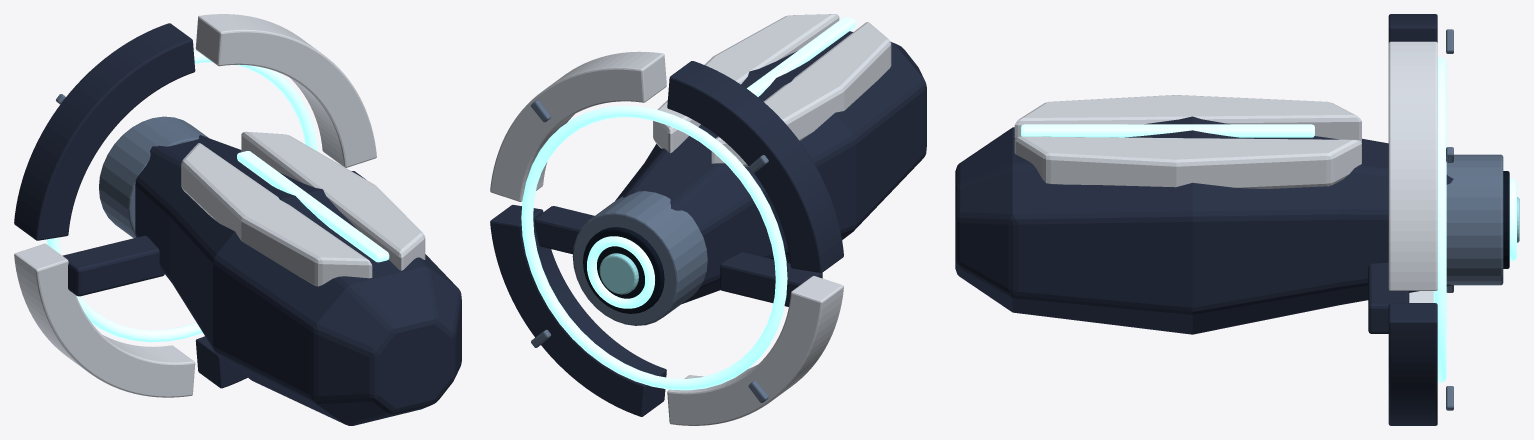
Rendered from Ether_C.fbx.
3 views of the same model, side by side, from view 1: azimuth 30°, elevation 25°; view 2: azimuth 150°, elevation 25°; view 3: azimuth 270°, elevation 25° (orthographic). The views are drawn at different scales.
Parts seen in each view (by area): view 1: C_01_RearPod, C_04_HaloSegment1, C_02_UpperPanel-1, C_04_HaloSegment0, C_04_HaloSegment2, C_02_UpperPanel1, C_07_CoreHousing, C_11_HaloSupport, C_05_InnerHalo, C_03_CoreSpine, C_04_HaloSegment3; view 2: C_01_RearPod, C_04_HaloSegment1, C_04_HaloSegment3, C_05_InnerHalo, C_04_HaloSegment2, C_04_HaloSegment0, C_07_CoreHousing, C_02_UpperPanel-1, C_02_UpperPanel1, C_11_HaloSupport, C_08_CoreRecess, C_09_CoreRing (+3 smaller); view 3: C_01_RearPod, C_02_UpperPanel1, C_04_HaloSegment0, C_02_UpperPanel-1, C_07_CoreHousing, C_04_HaloSegment3, C_03_CoreSpine, C_05_InnerHalo, C_11_HaloSupport.001, C_04_HaloSegment1, C_08_CoreRecess, C_09_CoreRing.
Part boxes in pixels (bbox=[...]): C_01_RearPod: bbox=[135, 135, 461, 425]; C_04_HaloSegment1: bbox=[14, 23, 195, 240]; C_02_UpperPanel-1: bbox=[181, 143, 372, 286]; C_04_HaloSegment0: bbox=[195, 14, 376, 167]; C_04_HaloSegment2: bbox=[14, 243, 195, 397]; C_02_UpperPanel1: bbox=[241, 131, 425, 270]; C_07_CoreHousing: bbox=[99, 116, 208, 237]; C_11_HaloSupport: bbox=[62, 235, 164, 296]; C_05_InnerHalo: bbox=[47, 51, 318, 342]; C_03_CoreSpine: bbox=[237, 151, 389, 262]; C_04_HaloSegment3: bbox=[195, 171, 365, 388]; C_01_RearPod: bbox=[615, 31, 926, 304]; C_04_HaloSegment1: bbox=[667, 61, 843, 272]; C_04_HaloSegment3: bbox=[490, 205, 666, 416]; C_05_InnerHalo: bbox=[521, 106, 787, 390]; C_04_HaloSegment2: bbox=[667, 276, 843, 425]; C_04_HaloSegment0: bbox=[490, 51, 666, 201]; C_07_CoreHousing: bbox=[572, 191, 707, 325]; C_02_UpperPanel-1: bbox=[711, 22, 891, 166]; C_02_UpperPanel1: bbox=[653, 14, 839, 153]; C_11_HaloSupport: bbox=[720, 252, 822, 306]; C_08_CoreRecess: bbox=[583, 227, 664, 313]; C_09_CoreRing: bbox=[587, 236, 654, 308]; C_01_RearPod: bbox=[955, 116, 1453, 334]; C_02_UpperPanel1: bbox=[1014, 136, 1361, 188]; C_04_HaloSegment0: bbox=[1388, 41, 1437, 290]; C_02_UpperPanel-1: bbox=[1014, 95, 1361, 141]; C_07_CoreHousing: bbox=[1446, 154, 1503, 285]; C_04_HaloSegment3: bbox=[1388, 303, 1437, 425]; C_03_CoreSpine: bbox=[1021, 124, 1314, 137]; C_05_InnerHalo: bbox=[1433, 56, 1446, 383]; C_11_HaloSupport.001: bbox=[1368, 262, 1409, 333]; C_04_HaloSegment1: bbox=[1388, 14, 1437, 42]; C_08_CoreRecess: bbox=[1503, 171, 1509, 268]; C_09_CoreRing: bbox=[1509, 178, 1516, 261].
Size of the model in its own units: 0.0502 by 0.0502 by 0.069.
